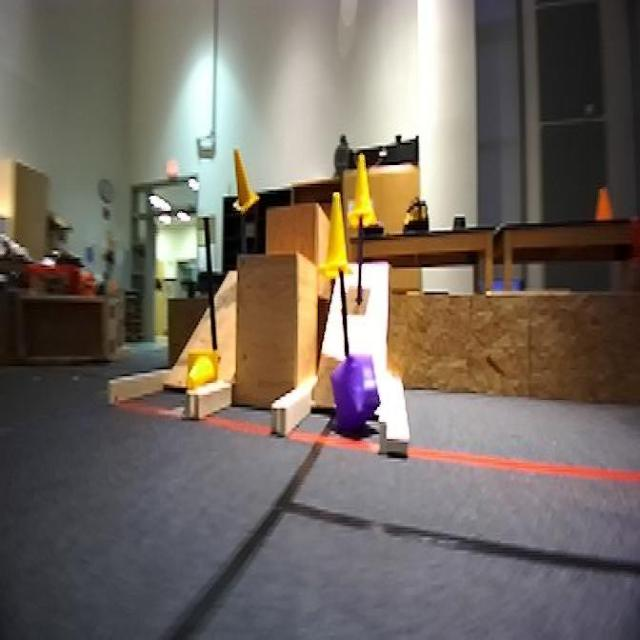frc_cone: (319, 196, 352, 281), (235, 146, 262, 213), (351, 158, 374, 223), (189, 351, 222, 396)
frc_cube: (331, 356, 381, 429)
